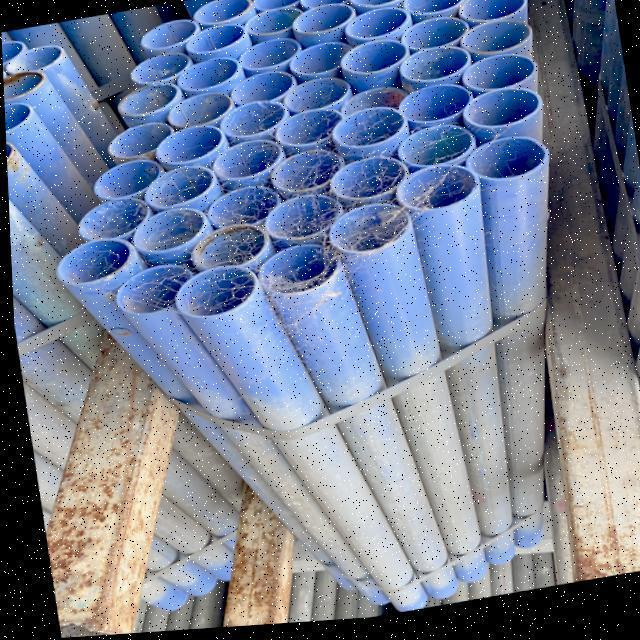pipe: (252, 241, 338, 297), (265, 147, 345, 201), (171, 267, 254, 319), (328, 206, 410, 258), (87, 158, 174, 205), (112, 265, 192, 316), (396, 168, 476, 217), (208, 138, 279, 193), (200, 190, 288, 234), (186, 223, 265, 272), (257, 197, 337, 245), (73, 196, 153, 244), (459, 144, 544, 188), (53, 238, 129, 287), (128, 207, 202, 257), (395, 125, 472, 173), (394, 89, 472, 135), (450, 58, 533, 101), (329, 159, 404, 206), (101, 122, 181, 166), (456, 95, 539, 137), (139, 167, 215, 212), (330, 111, 404, 157), (271, 114, 343, 159), (153, 124, 225, 169), (284, 44, 363, 83), (390, 22, 475, 57), (396, 52, 475, 89), (277, 78, 350, 118), (217, 105, 288, 146), (126, 46, 194, 88), (164, 91, 235, 131), (222, 74, 300, 109), (116, 83, 181, 124), (238, 39, 302, 80), (458, 20, 523, 59), (290, 7, 362, 42), (341, 43, 408, 80), (174, 58, 238, 96), (450, 0, 521, 32), (244, 5, 305, 42), (182, 26, 246, 60), (347, 10, 408, 45), (334, 93, 408, 121), (139, 19, 199, 53), (191, 0, 255, 28), (2, 43, 62, 72), (404, 0, 468, 24), (3, 69, 44, 102), (351, 0, 411, 13), (304, 0, 358, 14), (257, 0, 302, 13), (4, 104, 26, 129), (2, 41, 18, 62)
